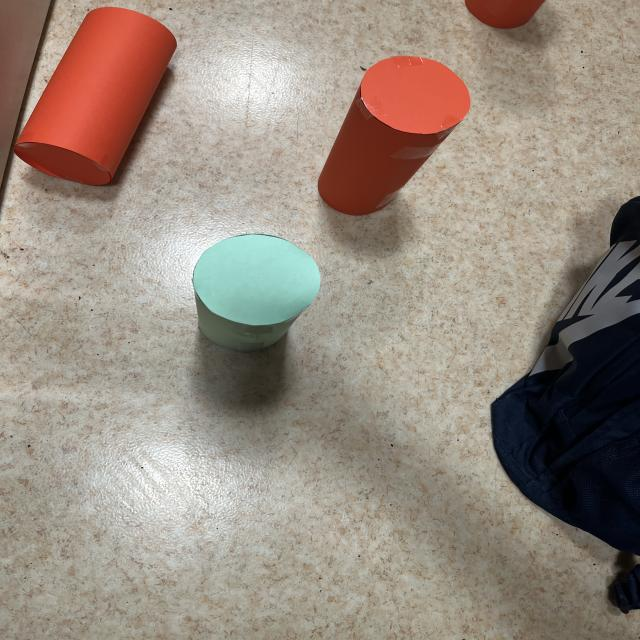meta: (192, 234, 320, 351)
przeszkoda: (14, 7, 176, 185), (318, 56, 470, 215), (465, 0, 544, 29)
